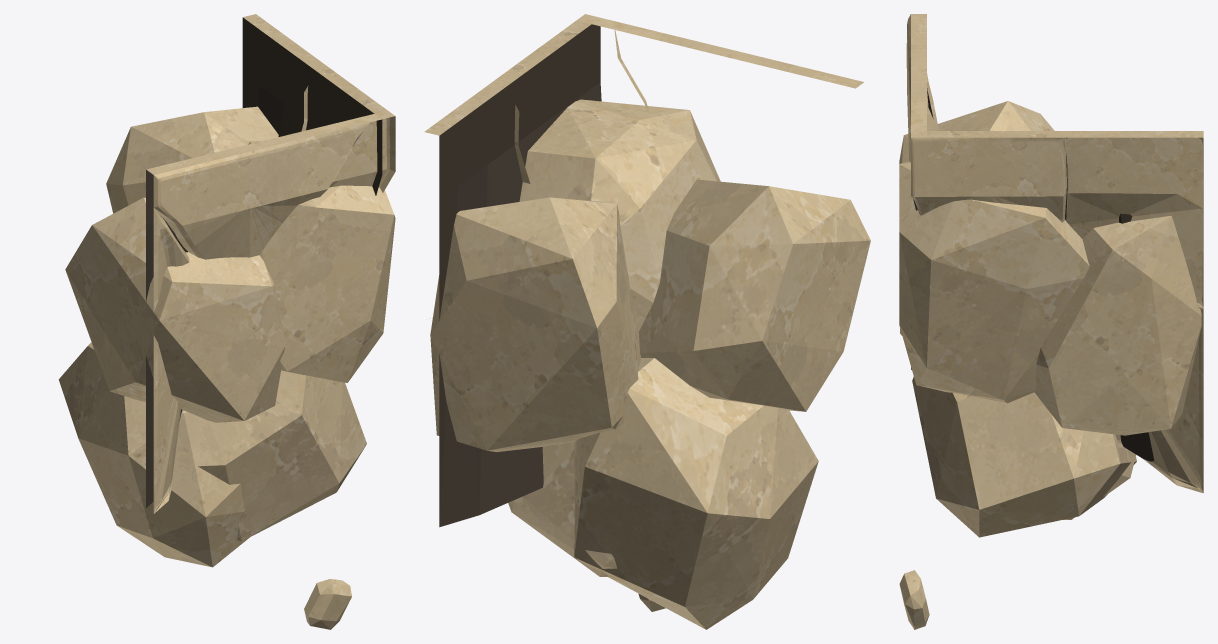
Rendered from ground_bottom_square_corner_01.glb.
The picture shows the model from 3 angles, left to right: view 1: azimuth 30°, elevation 25°; view 2: azimuth 150°, elevation 25°; view 3: azimuth 270°, elevation 25°; orthographic projection. The views are drawn at different scales.
Parts seen in each view (by area): view 1: GroundBottomSquareCorner01_Body; view 2: GroundBottomSquareCorner01_Body; view 3: GroundBottomSquareCorner01_Body.
Boxes of the visible parts, left/top/right/bottom form: GroundBottomSquareCorner01_Body: left=58, top=14, right=395, bottom=629; GroundBottomSquareCorner01_Body: left=424, top=14, right=870, bottom=629; GroundBottomSquareCorner01_Body: left=899, top=14, right=1203, bottom=629.
Size of the model in its own units: 1.04 by 1.98 by 1.04.
Materials: 9 (8 with a texture image).
